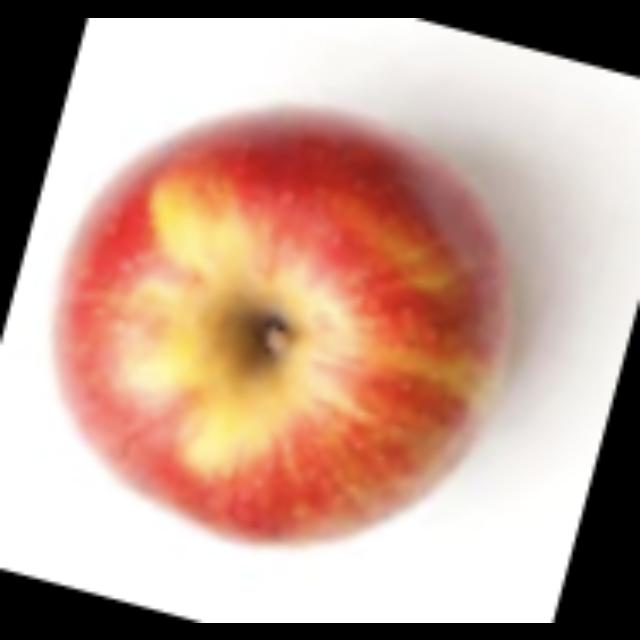Apel Segar: (51, 64, 524, 564)
